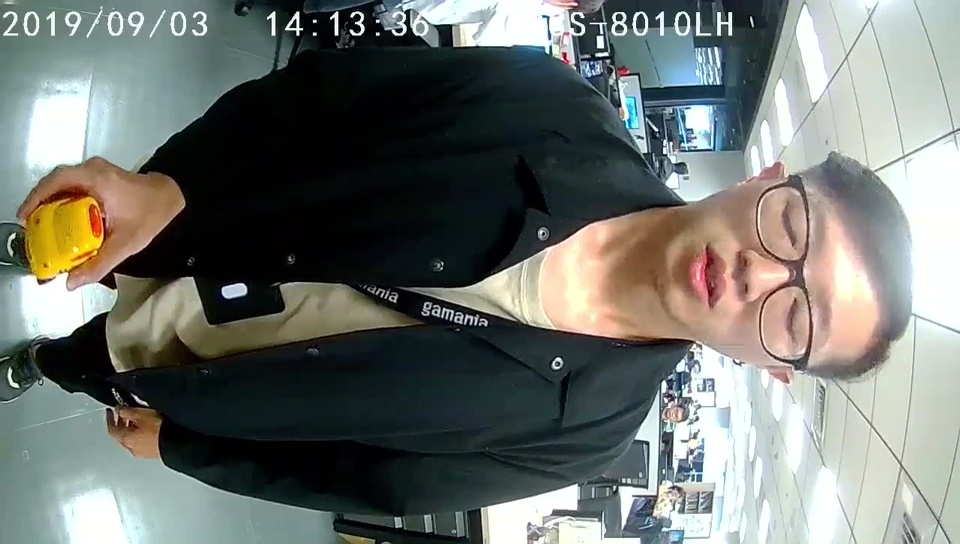car: (24, 190, 104, 281)
